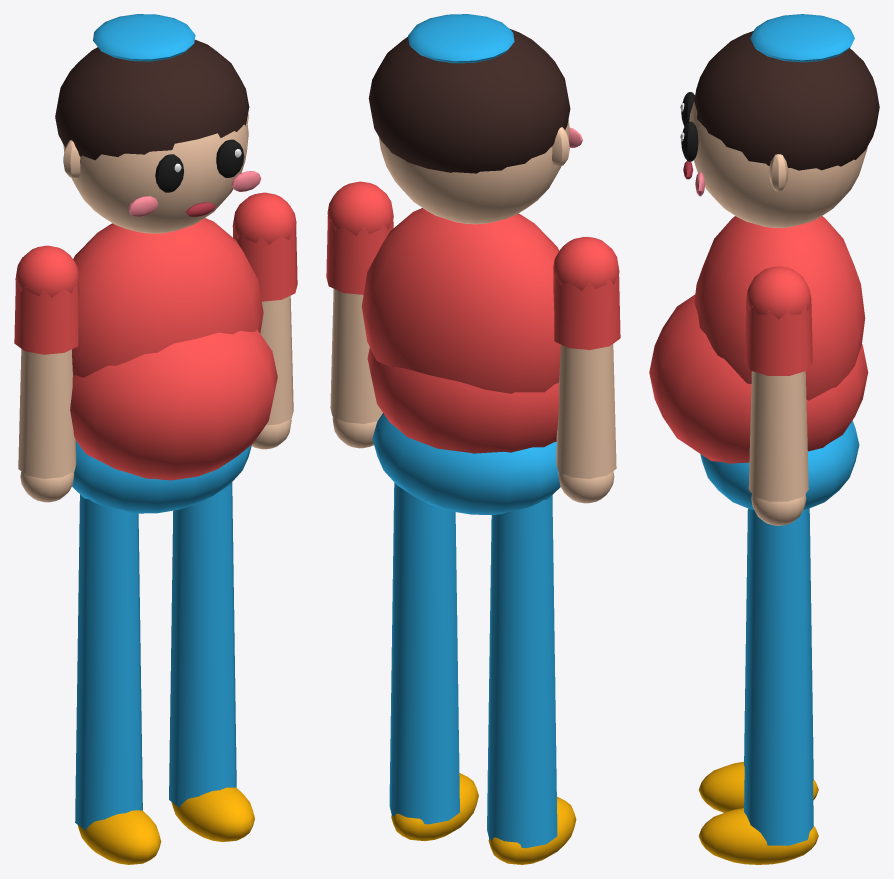
The model's file is heshy_person.glb.
3 views of the same model, side by side, from view 1: azimuth 30°, elevation 25°; view 2: azimuth 150°, elevation 25°; view 3: azimuth 270°, elevation 25° (orthographic). The views are drawn at different scales.
Visible parts, largest first — view 1: Body.006, Leg_R.006, Leg_L.006, Arm_R.006, Arm_L.006; view 2: Body.006, Leg_R.006, Leg_L.006, Arm_R.006, Arm_L.006; view 3: Body.006, Leg_L.006, Arm_L.006, Leg_R.006.
Boxes of the visible parts, x1=… form: Body.006: x1=55, y1=14, x2=277, y2=513; Leg_R.006: x1=75, y1=494, x2=161, y2=864; Leg_L.006: x1=169, y1=482, x2=254, y2=841; Arm_R.006: x1=14, y1=245, x2=79, y2=502; Arm_L.006: x1=232, y1=192, x2=297, y2=449; Body.006: x1=361, y1=14, x2=582, y2=514; Leg_R.006: x1=487, y1=495, x2=576, y2=864; Leg_L.006: x1=389, y1=482, x2=478, y2=841; Arm_R.006: x1=553, y1=236, x2=620, y2=503; Arm_L.006: x1=326, y1=181, x2=393, y2=448; Body.006: x1=649, y1=14, x2=879, y2=509; Leg_L.006: x1=698, y1=508, x2=818, y2=864; Arm_L.006: x1=744, y1=266, x2=812, y2=525; Leg_R.006: x1=698, y1=508, x2=818, y2=812.
Bounding box in the file's own units: 0.636 × 1.78 × 0.4599.
